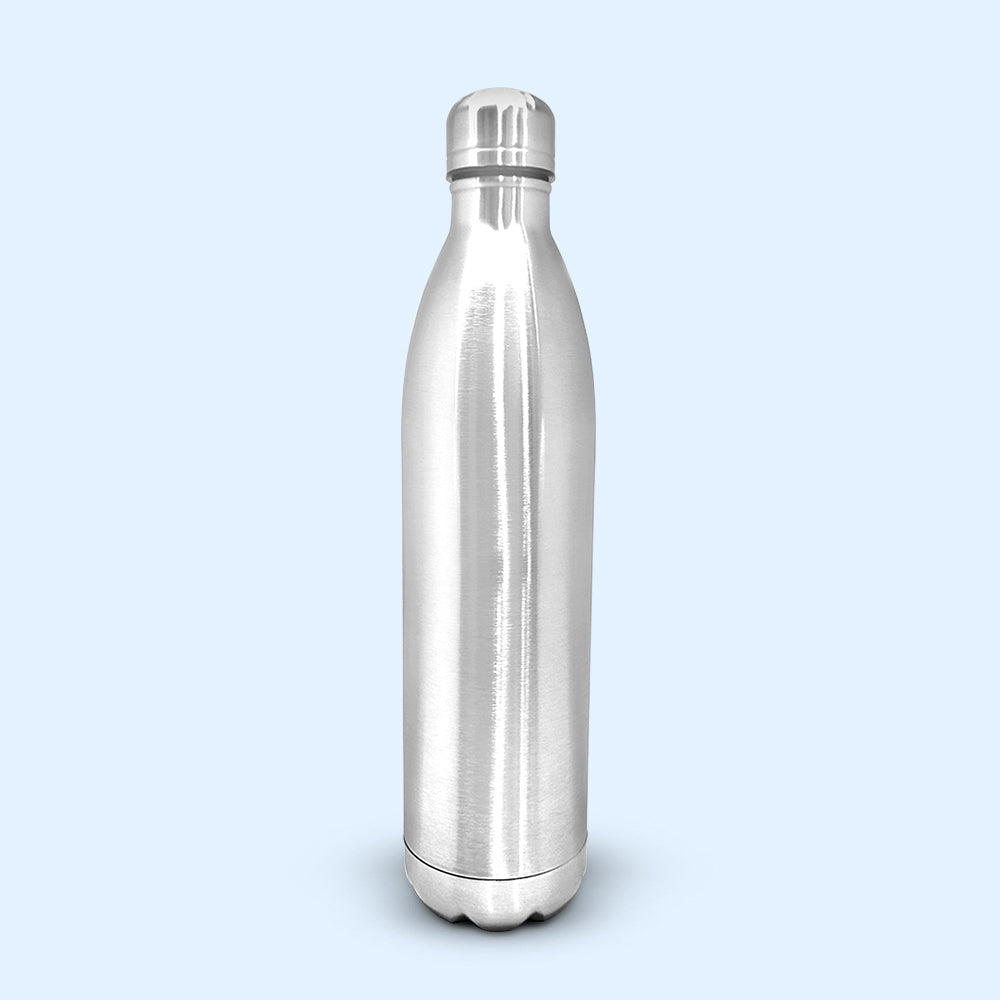bottle: (346, 62, 703, 944)
